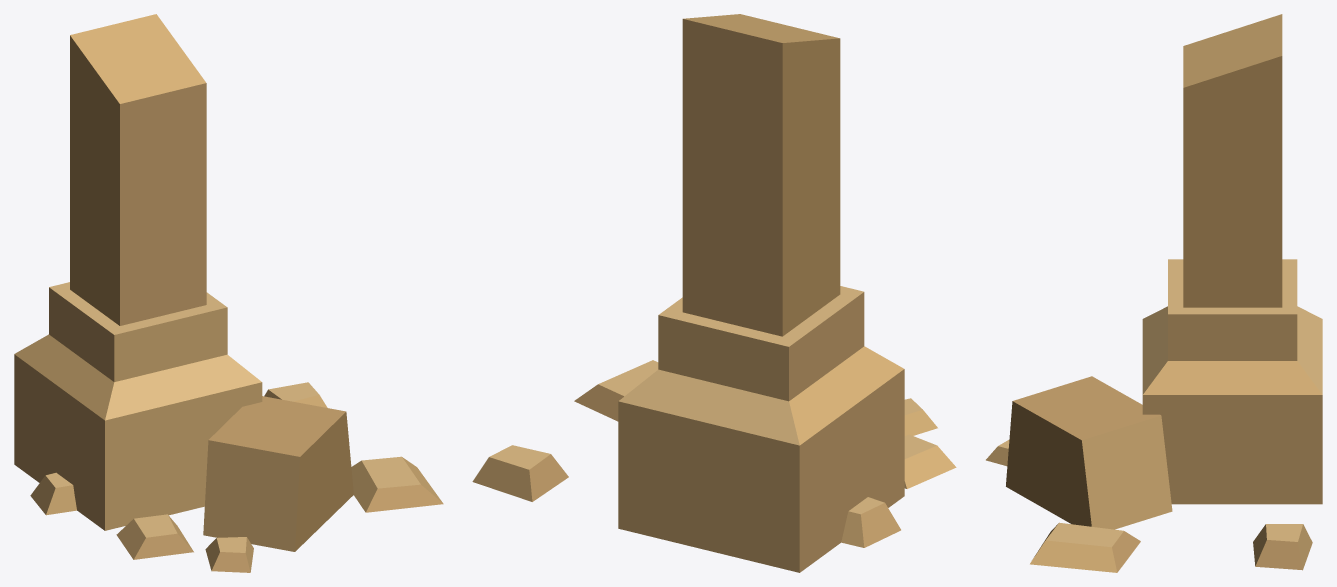
The model's file is ST_Env_Pillar 123.fbx.
3 views of the same model, side by side, from view 1: azimuth 30°, elevation 25°; view 2: azimuth 150°, elevation 25°; view 3: azimuth 270°, elevation 25° (orthographic). The views are drawn at different scales.
Parts seen in each view (by area): view 1: ST_Env_Pillar_02; view 2: ST_Env_Pillar_02; view 3: ST_Env_Pillar_02.
Part boxes in pixels (x1,y1,x2,y2): ST_Env_Pillar_02: (14, 14, 443, 572); ST_Env_Pillar_02: (472, 14, 956, 572); ST_Env_Pillar_02: (986, 14, 1322, 572).
Bounding box in the file's own units: 0.8334 × 1.06 × 0.7502.
